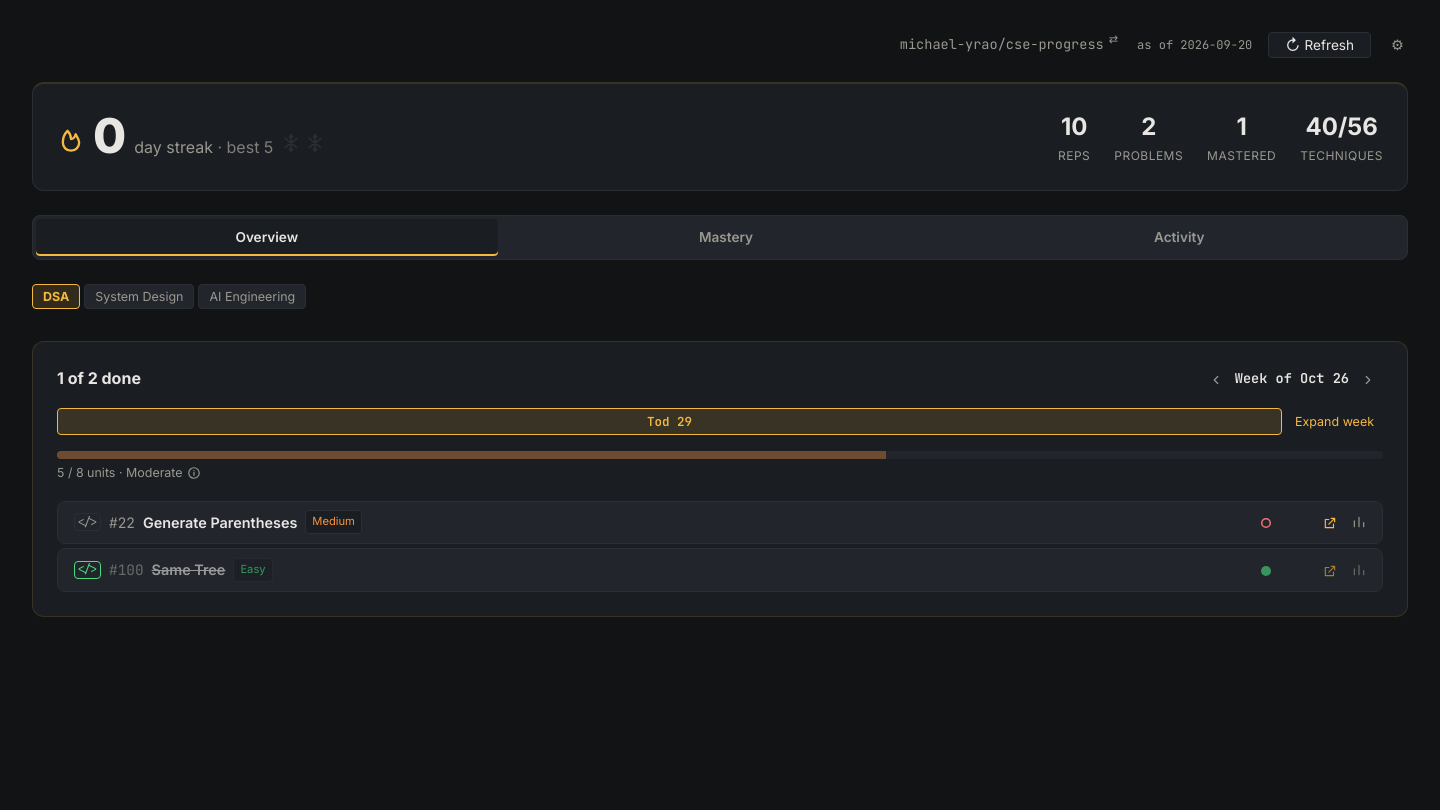
ProgressPageComponent › difficulty mix is folded into the Mastery pipeline card, sharing the segmented-bar component
Click the tab with id "tab-mastery" at (726, 238), box left=500, top=219, right=952, bottom=256
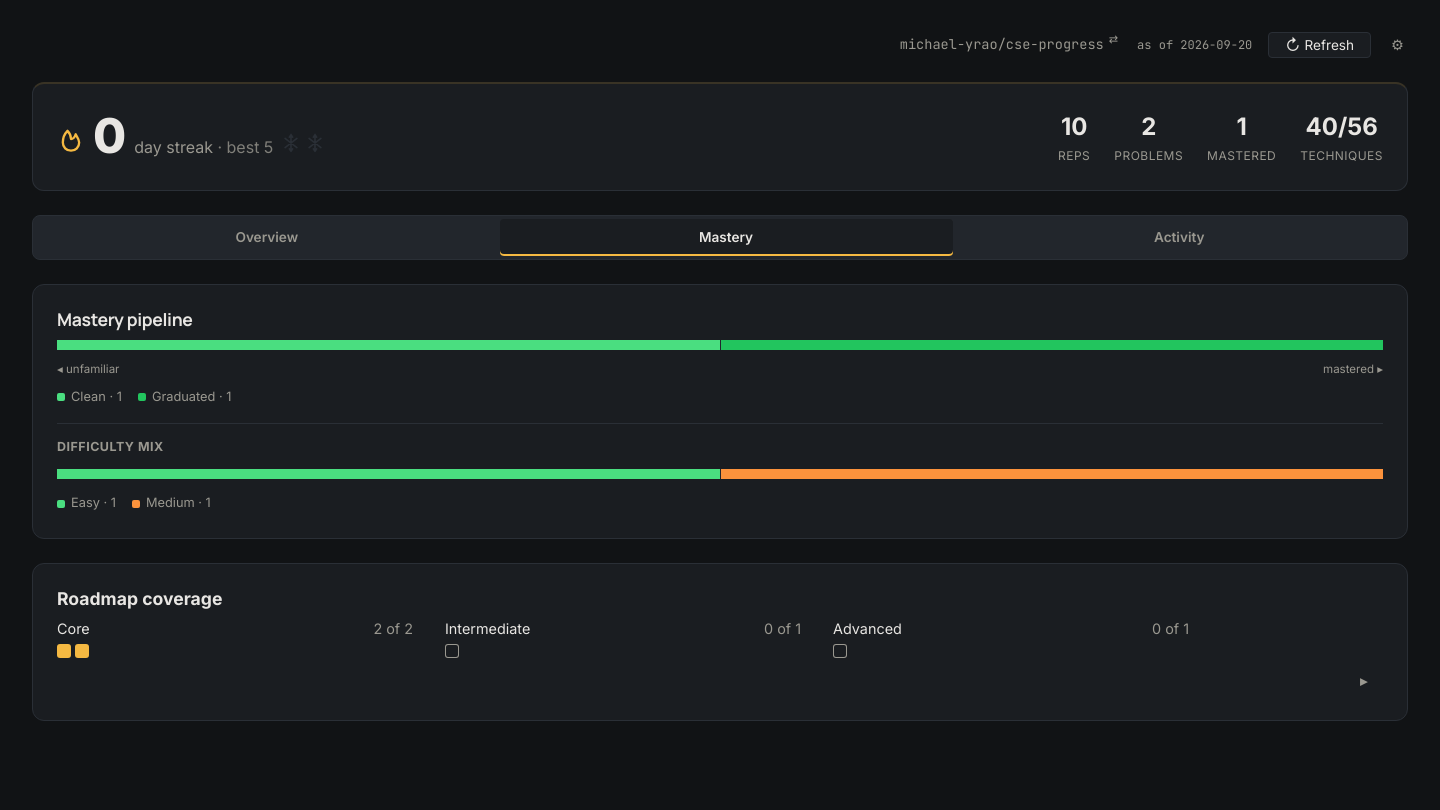
Check: the element that starts with "Mastery pipeline" is shown, box left=32, top=284, right=1408, bottom=539
